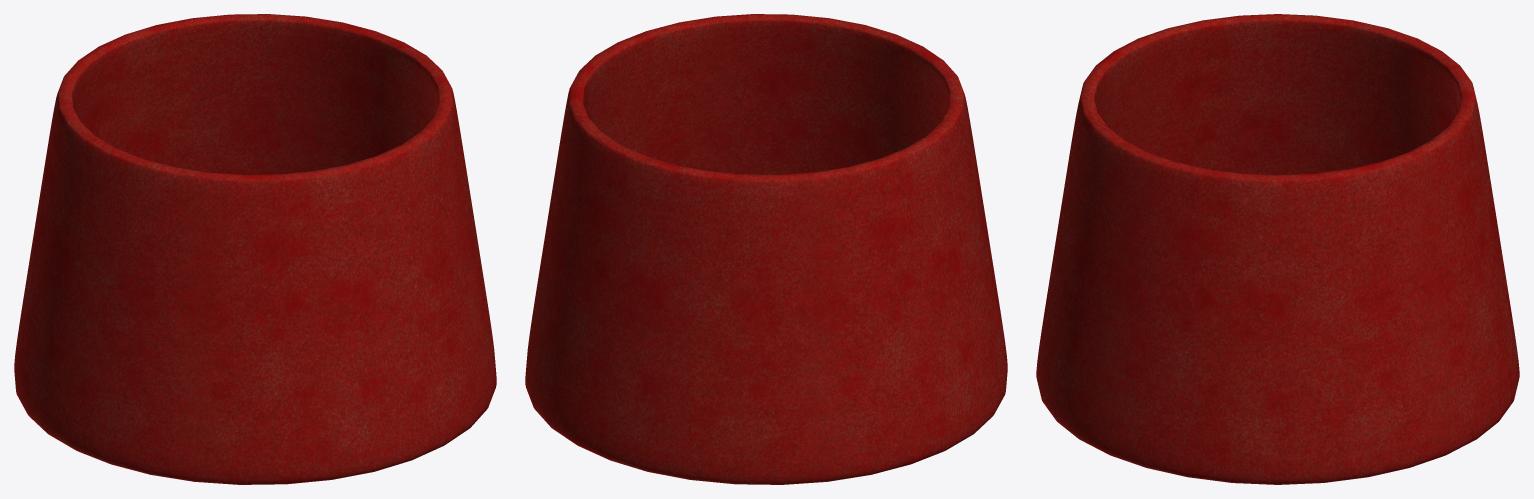
Rendered from taza1.glb.
3 renders of one model, left to right at view 1: azimuth 30°, elevation 25°; view 2: azimuth 150°, elevation 25°; view 3: azimuth 270°, elevation 25°, orthographic.
Parts seen in each view (by area): view 1: taza1; view 2: taza1; view 3: taza1.
Part boxes in pixels (<box>): taza1: <box>14,14,496,484</box>; taza1: <box>525,14,1007,484</box>; taza1: <box>1036,14,1519,484</box>.
Size of the model in its own units: 0.0809 by 0.0541 by 0.0809.
1 material, 1 textured.
